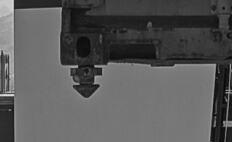Copy of twist_lock_2: (61, 58, 109, 105)
